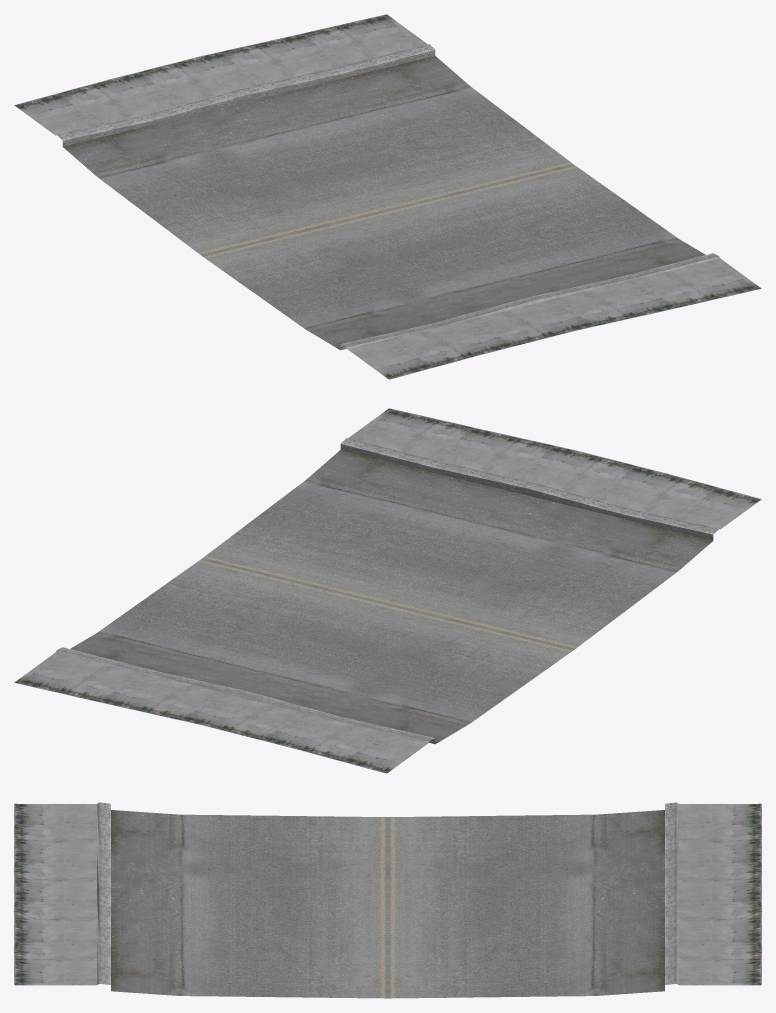
File: roadpart.FBX
3 renders of one model, top to bottom at view 1: azimuth 30°, elevation 25°; view 2: azimuth 150°, elevation 25°; view 3: azimuth 270°, elevation 25°, orthographic.
Visible parts, largest first — view 1: Plane001; view 2: Plane001; view 3: Plane001.
Boxes of the visible parts, bbox=[...] form: Plane001: bbox=[14, 14, 761, 379]; Plane001: bbox=[14, 408, 761, 773]; Plane001: bbox=[14, 802, 761, 998].
Bounding box in the file's own units: 70.31 × 3.03 × 123.
